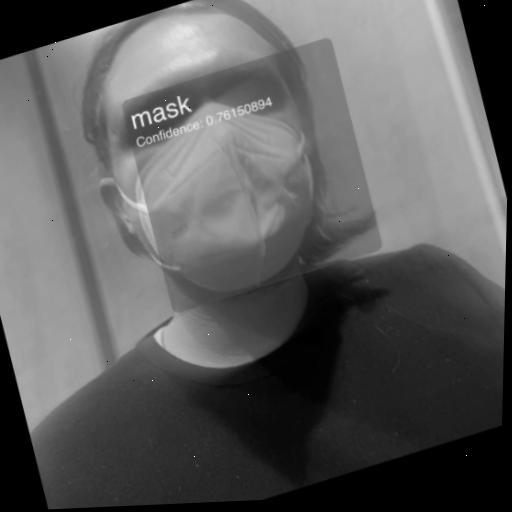mask: (43, 0, 411, 357)
